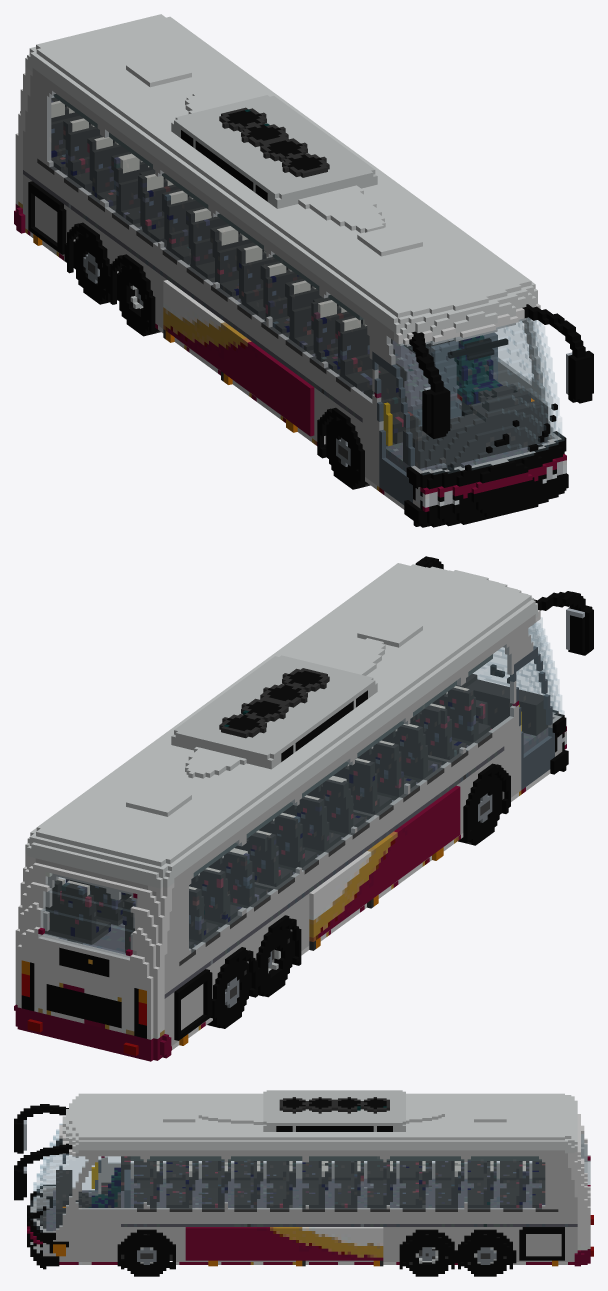
Rendered from touring-coach-voxel.glb.
The picture shows the model from 3 angles, top to bottom: view 1: azimuth 30°, elevation 25°; view 2: azimuth 150°, elevation 25°; view 3: azimuth 270°, elevation 25°; orthographic projection. The views are drawn at different scales.
Parts seen in each view (by area): view 1: Voxel_body, Door_1, Wheel_Front_R, Wheel_Tag_R, Wheel_Drive_R; view 2: Voxel_body, Door_1, Wheel_Tag_R, Wheel_Front_R, Wheel_Drive_R; view 3: Voxel_body, Wheel_Drive_L, Wheel_Tag_L, Wheel_Front_L, Door_1.
Part boxes in pixels (x1=…): Voxel_body: x1=14, y1=14, x2=593, y2=527; Door_1: x1=372, y1=351, x2=414, y2=505; Wheel_Front_R: x1=326, y1=419, x2=370, y2=489; Wheel_Tag_R: x1=73, y1=234, x2=121, y2=304; Wheel_Drive_R: x1=117, y1=265, x2=160, y2=336; Voxel_body: x1=14, y1=556, x2=593, y2=1061; Door_1: x1=510, y1=646, x2=554, y2=789; Wheel_Tag_R: x1=207, y1=960, x2=251, y2=1028; Wheel_Front_R: x1=458, y1=775, x2=501, y2=845; Wheel_Drive_R: x1=258, y1=928, x2=294, y2=997; Voxel_body: x1=14, y1=1090, x2=593, y2=1269; Wheel_Drive_L: x1=402, y1=1234, x2=451, y2=1276; Wheel_Tag_L: x1=461, y1=1234, x2=509, y2=1276; Wheel_Front_L: x1=124, y1=1234, x2=169, y2=1276; Door_1: x1=59, y1=1153, x2=104, y2=1190.
Bounding box in the file's own units: 3 × 3.83 × 13.42.
